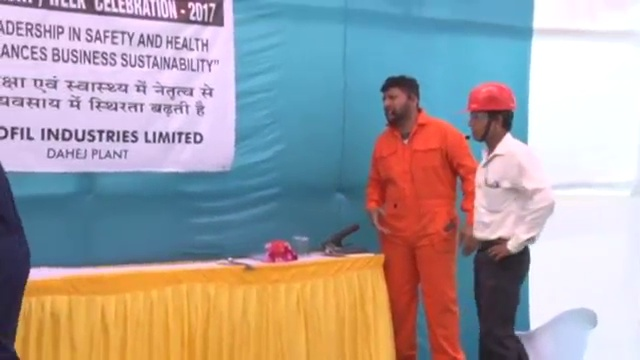helmet: (457, 82, 518, 114)
helmet_off: (382, 76, 419, 126)
helmet_on: (458, 82, 519, 148)
person: (367, 76, 483, 360), (455, 80, 556, 360)
